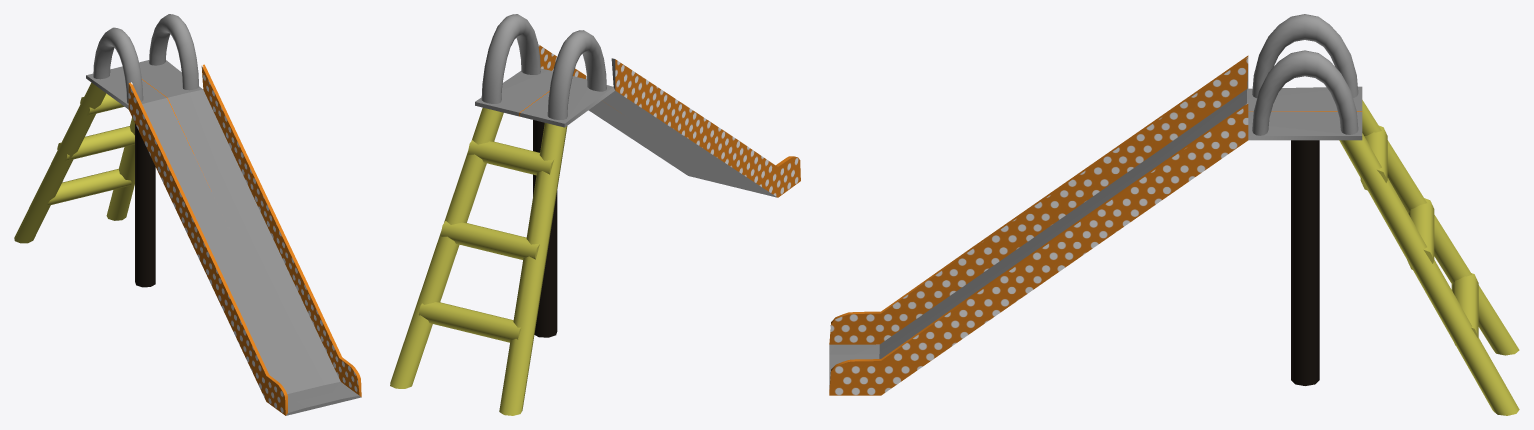
File: suberidai2.FBX
The picture shows the model from 3 angles, left to right: view 1: azimuth 30°, elevation 25°; view 2: azimuth 150°, elevation 25°; view 3: azimuth 270°, elevation 25°; orthographic projection. The views are drawn at different scales.
Visible parts, largest first — view 1: Plane002, Cylinder011, Cylinder012, Torus003, Torus004, Cylinder008, Cylinder007, Cylinder009, Cylinder010; view 2: Plane002, Cylinder011, Cylinder007, Torus003, Torus004, Cylinder008, Cylinder012, Cylinder009, Cylinder010; view 3: Plane002, Cylinder007, Cylinder012, Cylinder011, Torus003, Torus004, Cylinder008, Cylinder009, Cylinder010.
Part boxes in pixels (left/top/right/bottom): Plane002: left=86, top=60, right=361, bottom=415; Cylinder011: left=14, top=82, right=106, bottom=243; Cylinder012: left=135, top=123, right=155, bottom=287; Torus003: left=149, top=14, right=198, bottom=90; Torus004: left=93, top=27, right=143, bottom=103; Cylinder008: left=47, top=169, right=131, bottom=205; Cylinder007: left=106, top=117, right=134, bottom=220; Cylinder009: left=57, top=126, right=134, bottom=161; Cylinder010: left=80, top=93, right=124, bottom=115; Plane002: left=475, top=44, right=800, bottom=197; Cylinder011: left=499, top=123, right=567, bottom=415; Cylinder007: left=390, top=107, right=503, bottom=388; Torus003: left=481, top=14, right=540, bottom=103; Torus004: left=547, top=30, right=606, bottom=119; Cylinder008: left=418, top=302, right=521, bottom=342; Cylinder012: left=533, top=120, right=557, bottom=337; Cylinder009: left=441, top=221, right=539, bottom=259; Cylinder010: left=468, top=140, right=554, bottom=175; Plane002: left=829, top=55, right=1362, bottom=395; Cylinder007: left=1339, top=133, right=1519, bottom=415; Cylinder012: left=1291, top=140, right=1319, bottom=385; Cylinder011: left=1362, top=100, right=1519, bottom=355; Torus003: left=1252, top=50, right=1358, bottom=135; Torus004: left=1252, top=14, right=1358, bottom=98; Cylinder008: left=1451, top=273, right=1478, bottom=345; Cylinder009: left=1407, top=198, right=1434, bottom=270; Cylinder010: left=1360, top=125, right=1387, bottom=190.
Bounding box in the file's own units: 35.76 × 80.9 × 146.
